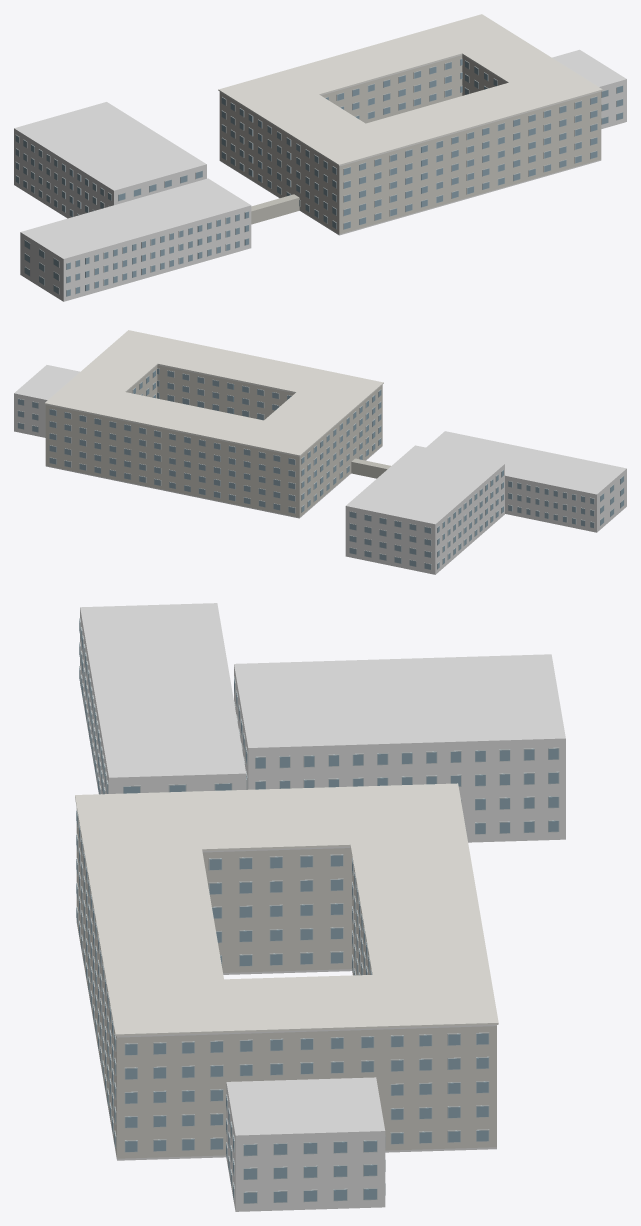
Rendered from SEU_Jizhong_reused.glb.
The picture shows the model from 3 angles, top to bottom: view 1: azimuth 30°, elevation 25°; view 2: azimuth 150°, elevation 25°; view 3: azimuth 270°, elevation 25°; orthographic projection. The views are drawn at different scales.
Visible parts, largest first — view 1: SEU_B_OSMWAY_300030325_REUSE__A2_south, SEU_B_OSMWAY_300030325_REUSE__photo_eave_south, SEU_B_OSMWAY_300030325_REUSE__photo_eave_north, SEU_B_OSMWAY_300030325_REUSE__A2_entry_roof, SEU_B_OSMWAY_300030325_REUSE__A2_lowwest_roof, SEU_B_OSMWAY_300030325_REUSE__A2_lowwest, SEU_B_OSMWAY_300030325_REUSE__A2_north, SEU_B_OSMWAY_300030325_REUSE__DETAIL_GLAZING_A2_south, SEU_B_OSMWAY_300030325_REUSE__A2_entry, SEU_B_OSMWAY_300030325_REUSE__photo_eave_west, SEU_B_OSMWAY_300030325_REUSE__DETAIL_FRAME_A2_south, SEU_B_OSMWAY_300030325_REUSE__A2_west (+15 smaller); view 2: SEU_B_OSMWAY_300030325_REUSE__A2_north, SEU_B_OSMWAY_300030325_REUSE__photo_eave_north, SEU_B_OSMWAY_300030325_REUSE__photo_eave_south, SEU_B_OSMWAY_300030325_REUSE__A2_entry_roof, SEU_B_OSMWAY_300030325_REUSE__A2_entry, SEU_B_OSMWAY_300030325_REUSE__A2_lowwest_roof, SEU_B_OSMWAY_300030325_REUSE__A2_south, SEU_B_OSMWAY_300030325_REUSE__DETAIL_GLAZING_A2_north, SEU_B_OSMWAY_300030325_REUSE__A2_lowwest, SEU_B_OSMWAY_300030325_REUSE__DETAIL_FRAME_A2_north, SEU_B_OSMWAY_300030325_REUSE__photo_eave_west, SEU_B_OSMWAY_300030325_REUSE__photo_eave_east (+13 smaller); view 3: SEU_B_OSMWAY_300030325_REUSE__photo_eave_south, SEU_B_OSMWAY_300030325_REUSE__photo_eave_north, SEU_B_OSMWAY_300030325_REUSE__A2_entry_roof, SEU_B_OSMWAY_300030325_REUSE__A2_lowwest_roof, SEU_B_OSMWAY_300030325_REUSE__A2_entry, SEU_B_OSMWAY_300030325_REUSE__A2_south, SEU_B_OSMWAY_300030325_REUSE__A2_west, SEU_B_OSMWAY_300030325_REUSE__A2_north, SEU_B_OSMWAY_300030325_REUSE__photo_eave_west, SEU_B_OSMWAY_300030325_REUSE__A2_loweast, SEU_B_OSMWAY_300030325_REUSE__A2_loweast_roof, SEU_B_OSMWAY_300030325_REUSE__photo_eave_east (+15 smaller).
Part boxes in pixels (left/top/right/bottom): SEU_B_OSMWAY_300030325_REUSE__A2_south: left=303, top=91, right=601, bottom=234; SEU_B_OSMWAY_300030325_REUSE__photo_eave_south: left=302, top=66, right=602, bottom=165; SEU_B_OSMWAY_300030325_REUSE__photo_eave_north: left=218, top=14, right=518, bottom=113; SEU_B_OSMWAY_300030325_REUSE__A2_entry_roof: left=14, top=102, right=206, bottom=192; SEU_B_OSMWAY_300030325_REUSE__A2_lowwest_roof: left=20, top=178, right=251, bottom=260; SEU_B_OSMWAY_300030325_REUSE__A2_lowwest: left=20, top=207, right=251, bottom=300; SEU_B_OSMWAY_300030325_REUSE__A2_north: left=219, top=55, right=462, bottom=181; SEU_B_OSMWAY_300030325_REUSE__DETAIL_GLAZING_A2_south: left=305, top=97, right=597, bottom=229; SEU_B_OSMWAY_300030325_REUSE__A2_entry: left=14, top=130, right=206, bottom=217; SEU_B_OSMWAY_300030325_REUSE__photo_eave_west: left=255, top=93, right=365, bottom=142; SEU_B_OSMWAY_300030325_REUSE__DETAIL_FRAME_A2_south: left=305, top=96, right=597, bottom=229; SEU_B_OSMWAY_300030325_REUSE__A2_west: left=255, top=114, right=303, bottom=211; SEU_B_OSMWAY_300030325_REUSE__A2_north: left=45, top=405, right=324, bottom=517; SEU_B_OSMWAY_300030325_REUSE__photo_eave_north: left=44, top=380, right=325, bottom=456; SEU_B_OSMWAY_300030325_REUSE__photo_eave_south: left=103, top=330, right=383, bottom=405; SEU_B_OSMWAY_300030325_REUSE__A2_entry_roof: left=345, top=445, right=504, bottom=525; SEU_B_OSMWAY_300030325_REUSE__A2_entry: left=345, top=465, right=504, bottom=573; SEU_B_OSMWAY_300030325_REUSE__A2_lowwest_roof: left=426, top=431, right=626, bottom=495; SEU_B_OSMWAY_300030325_REUSE__A2_south: left=157, top=365, right=382, bottom=460; SEU_B_OSMWAY_300030325_REUSE__DETAIL_GLAZING_A2_north: left=49, top=409, right=323, bottom=513; SEU_B_OSMWAY_300030325_REUSE__A2_lowwest: left=505, top=470, right=626, bottom=531; SEU_B_OSMWAY_300030325_REUSE__DETAIL_FRAME_A2_north: left=49, top=409, right=323, bottom=513; SEU_B_OSMWAY_300030325_REUSE__photo_eave_west: left=264, top=391, right=358, bottom=433; SEU_B_OSMWAY_300030325_REUSE__photo_eave_east: left=70, top=352, right=157, bottom=391; SEU_B_OSMWAY_300030325_REUSE__photo_eave_south: left=75, top=791, right=232, bottom=1036; SEU_B_OSMWAY_300030325_REUSE__photo_eave_north: left=341, top=783, right=498, bottom=1028; SEU_B_OSMWAY_300030325_REUSE__A2_entry_roof: left=234, top=654, right=565, bottom=750; SEU_B_OSMWAY_300030325_REUSE__A2_lowwest_roof: left=80, top=603, right=246, bottom=780; SEU_B_OSMWAY_300030325_REUSE__A2_entry: left=234, top=668, right=565, bottom=840; SEU_B_OSMWAY_300030325_REUSE__A2_south: left=76, top=808, right=230, bottom=1158; SEU_B_OSMWAY_300030325_REUSE__A2_west: left=202, top=848, right=352, bottom=972; SEU_B_OSMWAY_300030325_REUSE__A2_north: left=352, top=868, right=496, bottom=1150; SEU_B_OSMWAY_300030325_REUSE__photo_eave_west: left=189, top=787, right=353, bottom=851; SEU_B_OSMWAY_300030325_REUSE__A2_loweast: left=226, top=1085, right=385, bottom=1209; SEU_B_OSMWAY_300030325_REUSE__A2_loweast_roof: left=226, top=1077, right=385, bottom=1138; SEU_B_OSMWAY_300030325_REUSE__photo_eave_east: left=220, top=975, right=384, bottom=1032.
Size of the model in its own units: 184 by 20.5 by 71.81.
